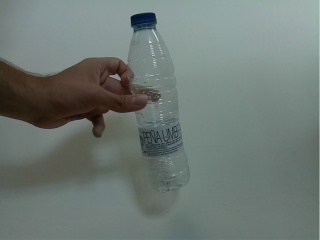botella plastico: (124, 10, 193, 194)
